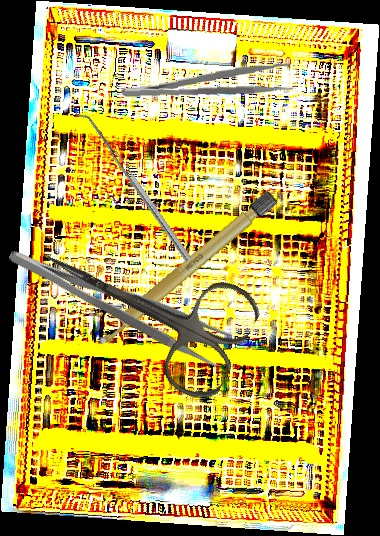Dressing Forceps: (5, 227, 233, 371), (120, 61, 294, 102)
Iris Scissors: (20, 201, 267, 409)
Scalpel Handle: (89, 188, 280, 352)
Spatula Surgical: (74, 106, 192, 267)
